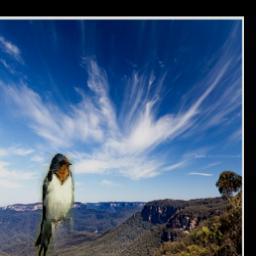Swallow: (33, 155, 74, 256)
